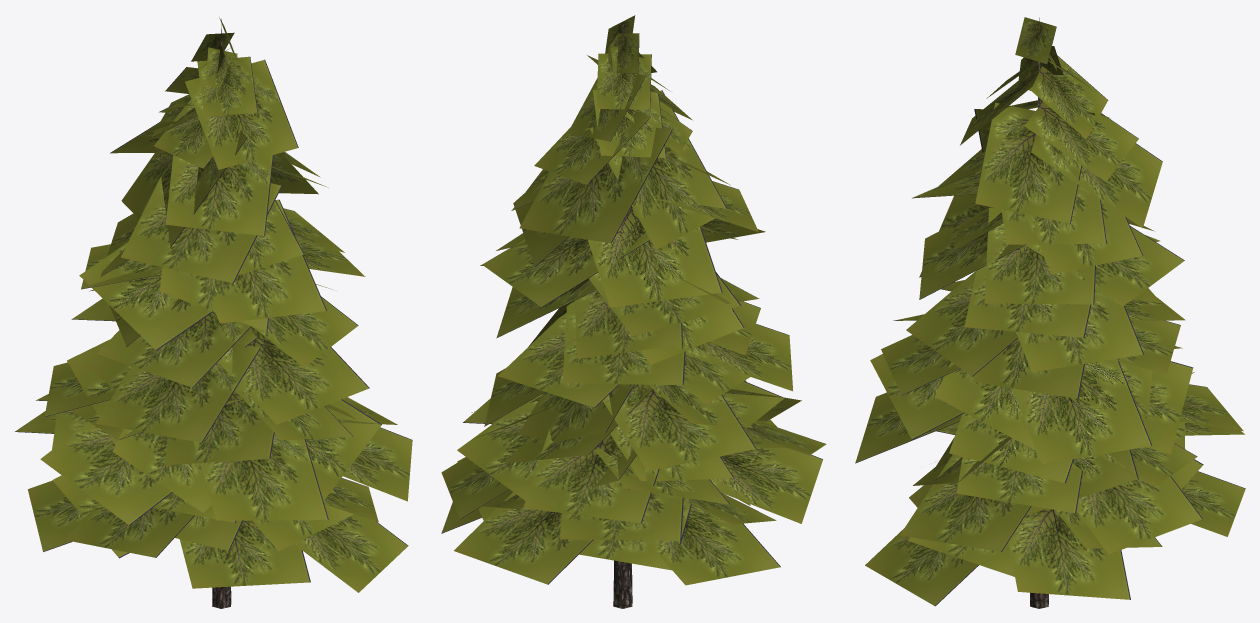
The model's file is B_Tree_06.fbx.
The picture shows the model from 3 angles, left to right: view 1: azimuth 30°, elevation 25°; view 2: azimuth 150°, elevation 25°; view 3: azimuth 270°, elevation 25°; orthographic projection.
Visible parts, largest first — view 1: B_Tree_06; view 2: B_Tree_06; view 3: B_Tree_06.
Part boxes in pixels (x1=…): B_Tree_06: x1=15, y1=17, x2=412, y2=608; B_Tree_06: x1=441, y1=15, x2=826, y2=608; B_Tree_06: x1=855, y1=17, x2=1245, y2=608.
Bounding box in the file's own units: 947 × 1501 × 900.
Materials: 2 (2 with a texture image).
